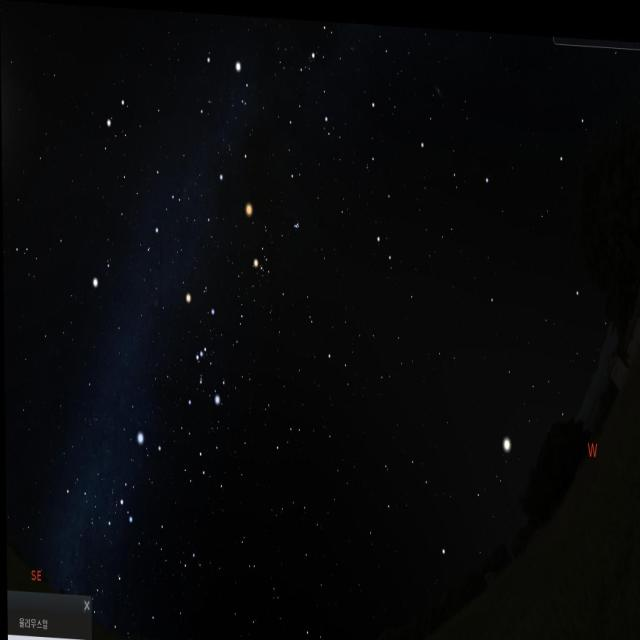canis_major: (110, 423, 165, 525)
canis_minor: (84, 250, 116, 299)
gemini: (96, 82, 192, 262)
orion: (172, 285, 223, 418)
pleiades: (287, 211, 308, 236)
taurus: (238, 187, 307, 294)
